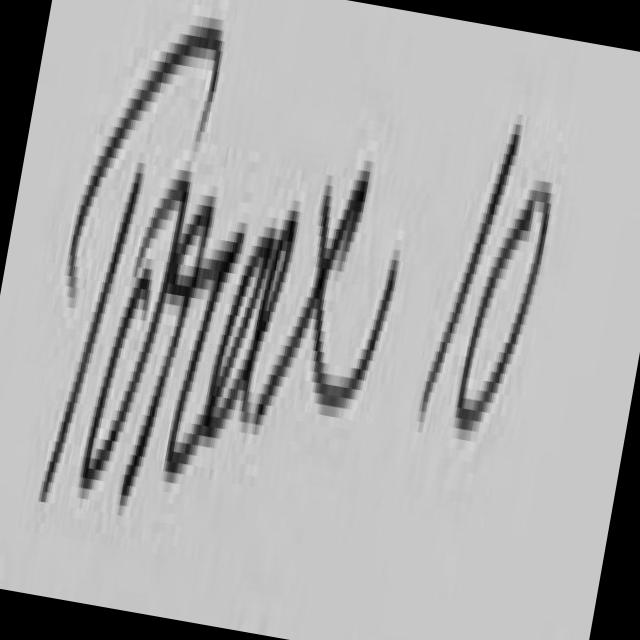0: (456, 186, 552, 438)
1: (417, 140, 515, 430)
T: (57, 14, 221, 321), (36, 174, 137, 504)
a: (211, 202, 301, 446)
o: (78, 161, 193, 511)
r: (117, 198, 248, 506)
x: (251, 153, 401, 431)
